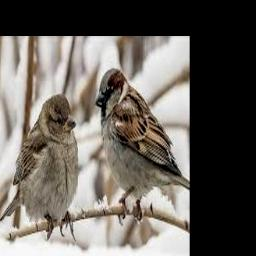Sparrow: (95, 67, 190, 226), (0, 93, 79, 242)
